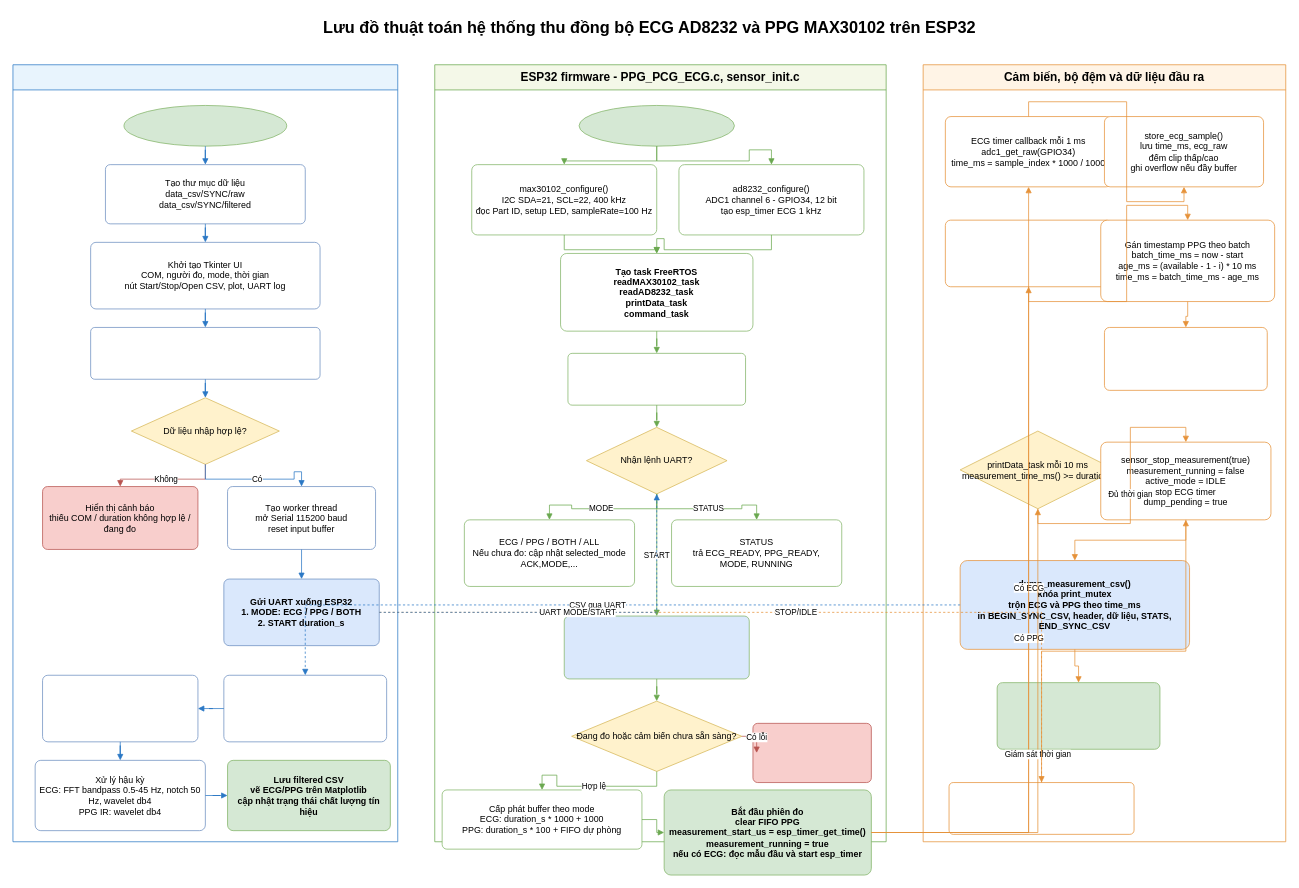
This 1299x888 diagram has some shape labels left out. Here are the shapes that lost their labels. From the top down, the box of each, then its label:
(123, 105, 287, 146): Bắt đầu chương trình UI
(578, 105, 734, 146): app_main()
(945, 219, 1112, 287): readMAX30102_task nếu đang đo và mode có PPG max30105_check FIFO mỗi 5 ms
(90, 327, 320, 379): Người dùng chọn COM, mode ECG/PPG/BOTH và duration_s
(1104, 327, 1267, 390): store_ppg_sample() lưu time_ms, red_raw, ir_raw ghi overflow nếu đầy buffer
(567, 353, 746, 405): command_task đặt mode mặc định BOTH in READY qua UART
(12, 64, 398, 842): Máy tính - UI_Reciever.py
(564, 615, 749, 679): START duration_s normalize duration 0 => 10 s, tối đa 120 s
(42, 675, 198, 742): Parse và chuẩn hóa rows sắp xếp theo time_ms lưu raw CSV
(223, 675, 387, 742): Đợi block CSV BEGIN_SYNC_CSV ... END_SYNC_CSV timeout = duration_s + 25
(996, 682, 1160, 749): Dọn phiên đo dump_pending = false reset timestamp và thống kê free buffer
(752, 723, 871, 783): Trả lỗi UART ERR,START,... hoặc ERR,UNKNOWN_CMD
(948, 782, 1134, 834): STOP / IDLE từ PC dừng sớm và vẫn dump CSV nếu có phiên đo
